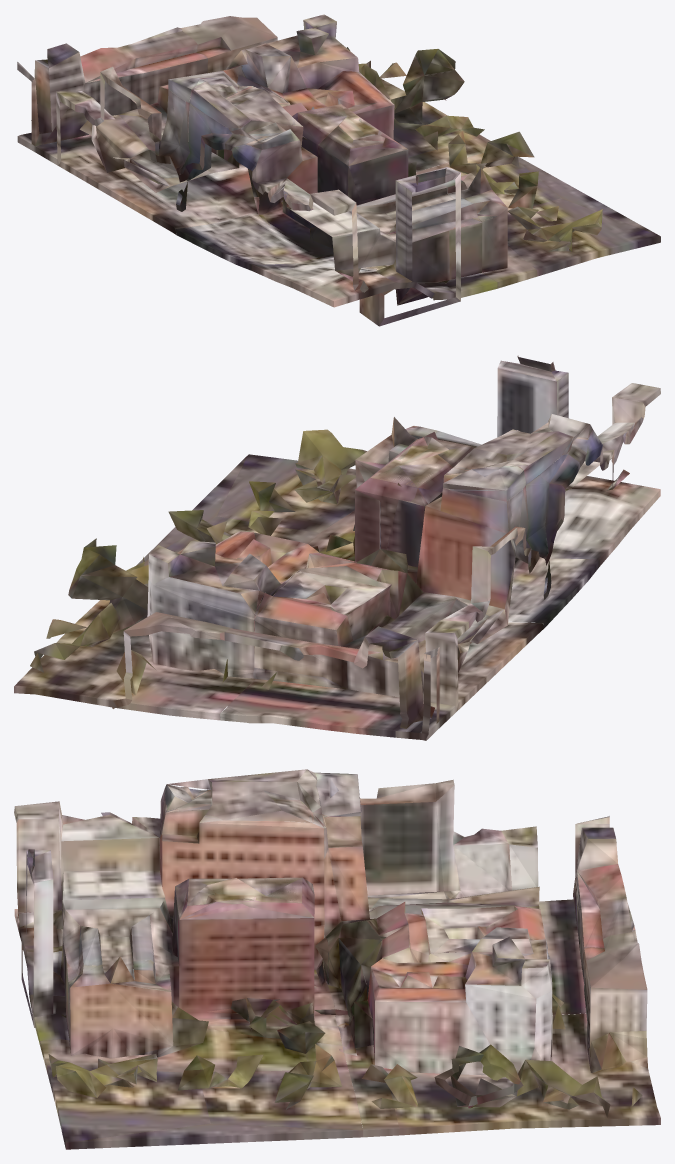
3 renders of one model, top to bottom at view 1: azimuth 30°, elevation 25°; view 2: azimuth 150°, elevation 25°; view 3: azimuth 270°, elevation 25°, orthographic. The views are drawn at different scales.
Parts seen in each view (by area): view 1: Mesh_0; view 2: Mesh_0; view 3: Mesh_0.
Boxes of the visible parts, x1=… form: Mesh_0: x1=17, y1=14, x2=660, y2=326; Mesh_0: x1=14, y1=355, x2=660, y2=740; Mesh_0: x1=14, y1=769, x2=660, y2=1149.
Size of the model in its own units: 134 by 52.74 by 165.
Materials: 1 (1 with a texture image).
